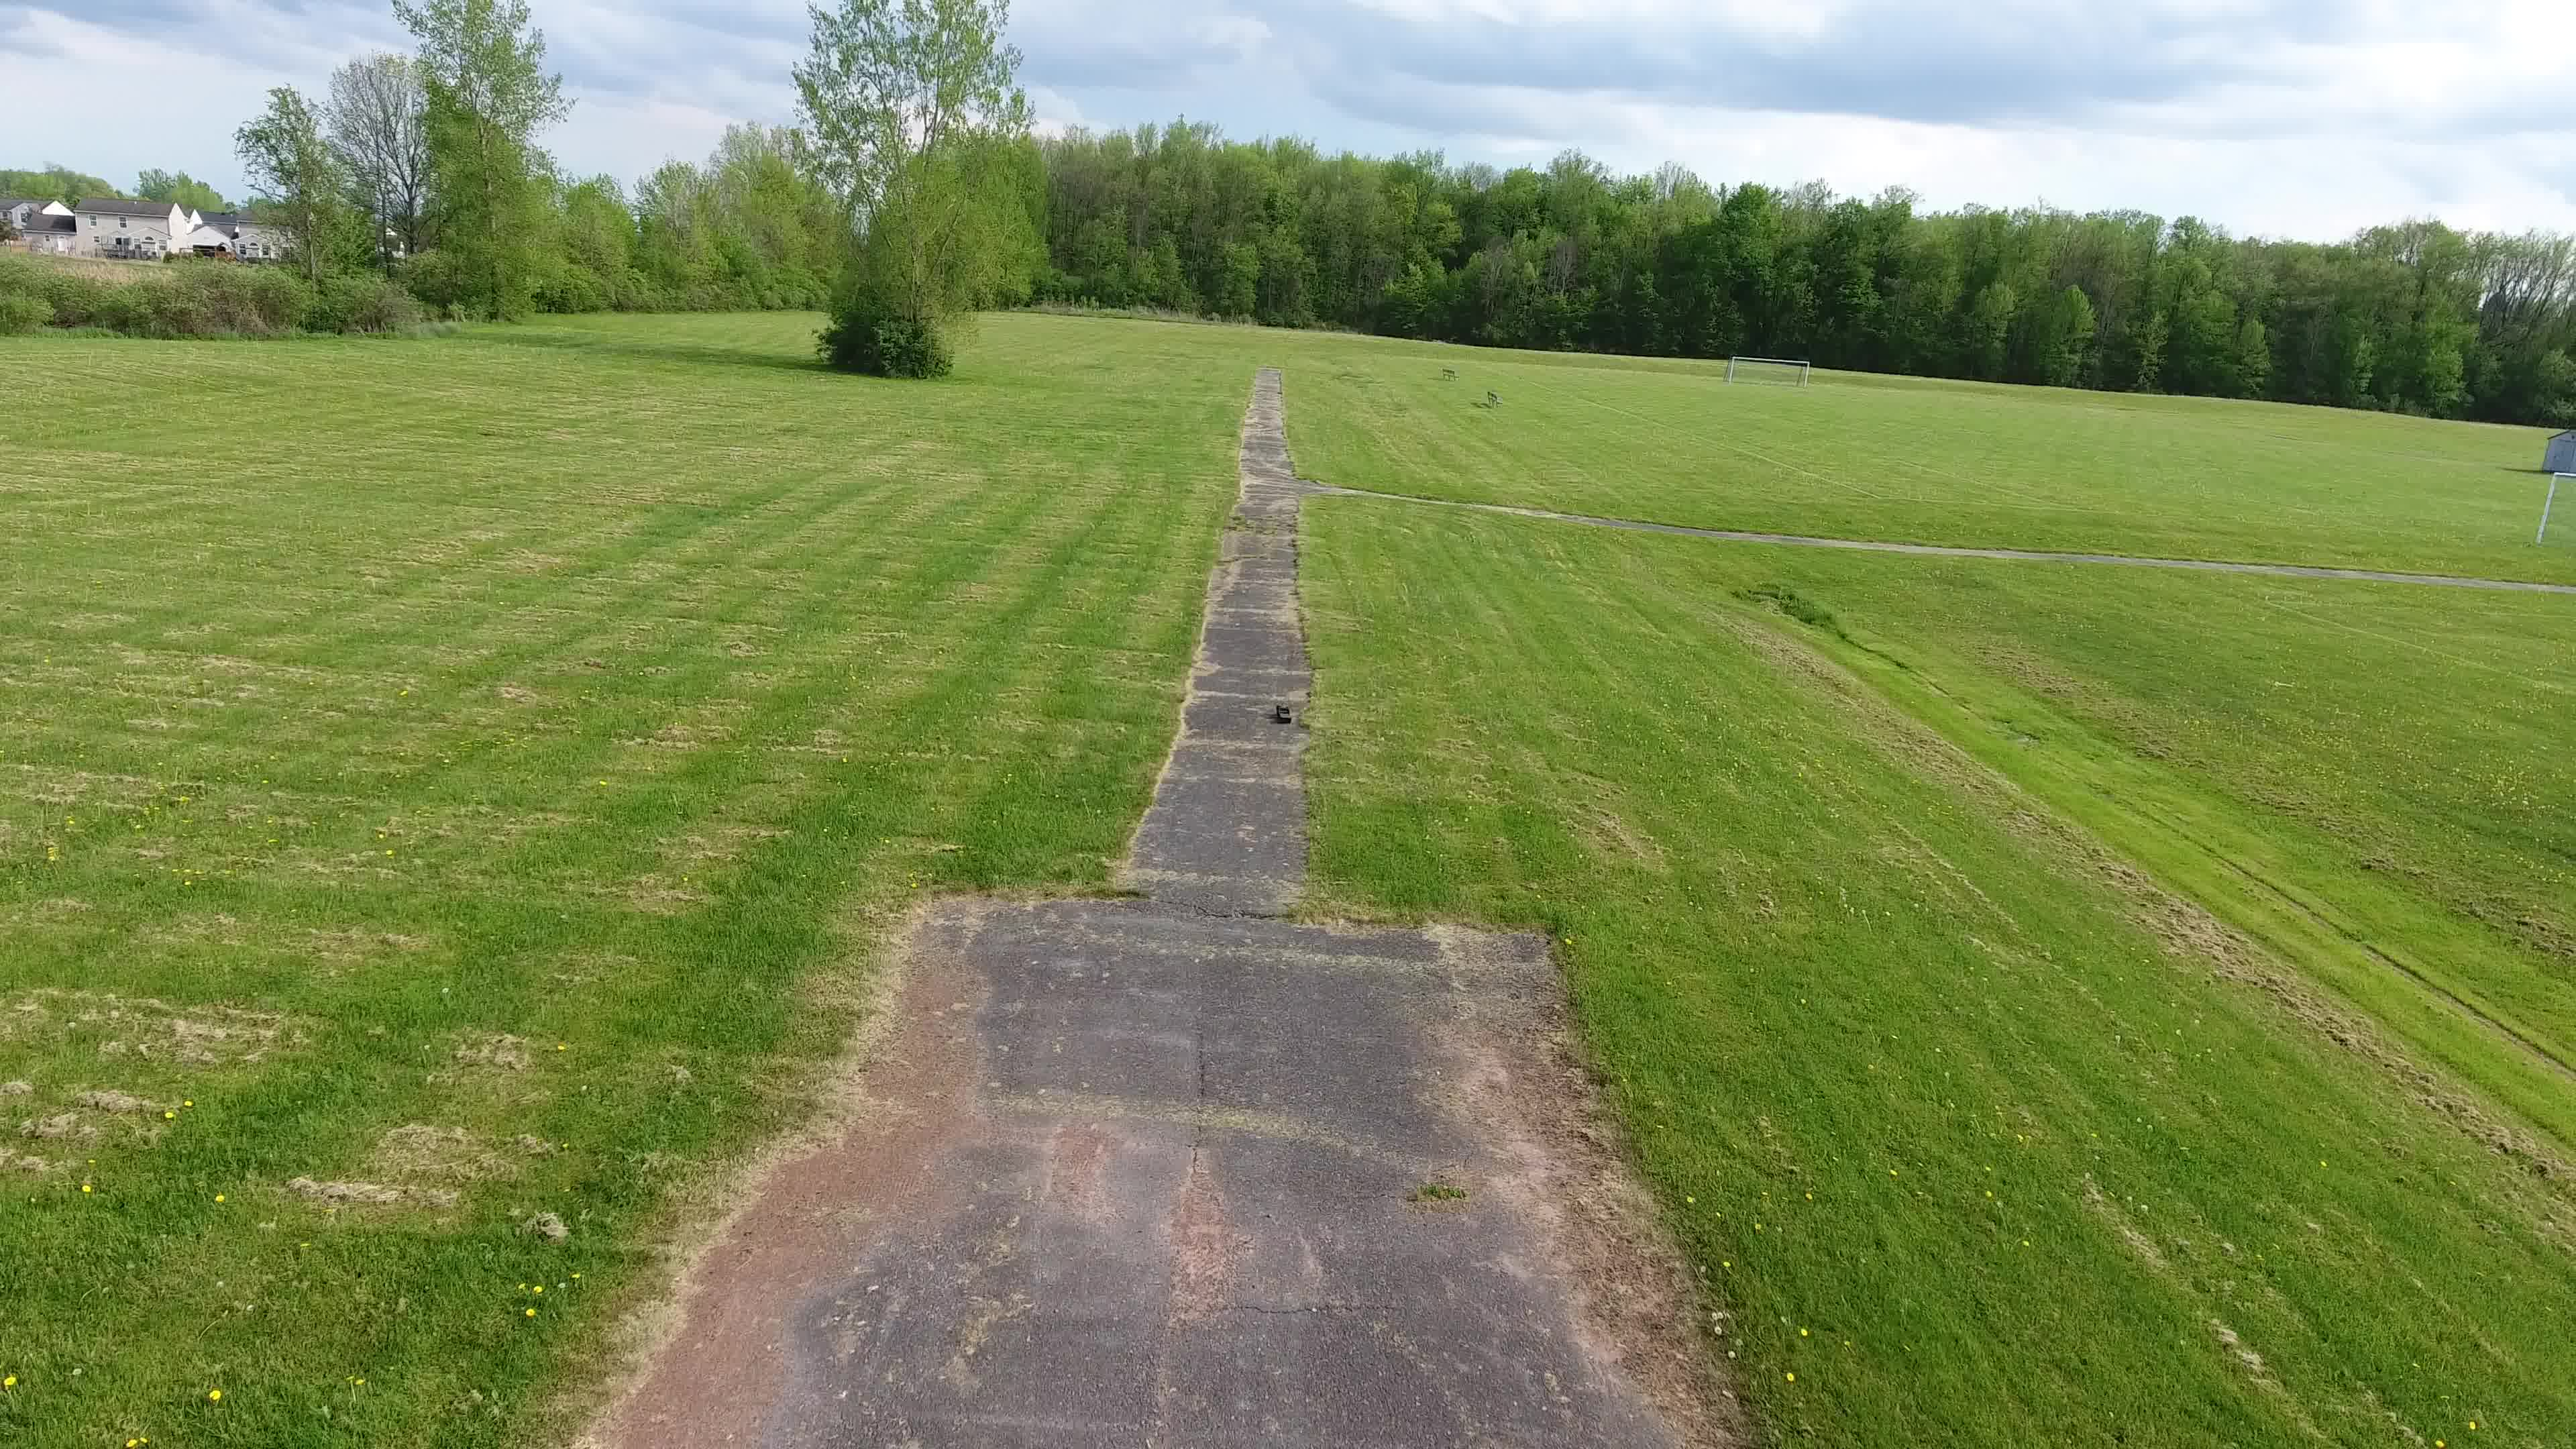transporter9_camo: (1276, 704, 1293, 725)
